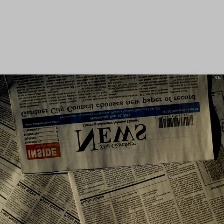news_paper: (2, 74, 221, 178), (64, 118, 224, 223), (0, 73, 85, 223)
